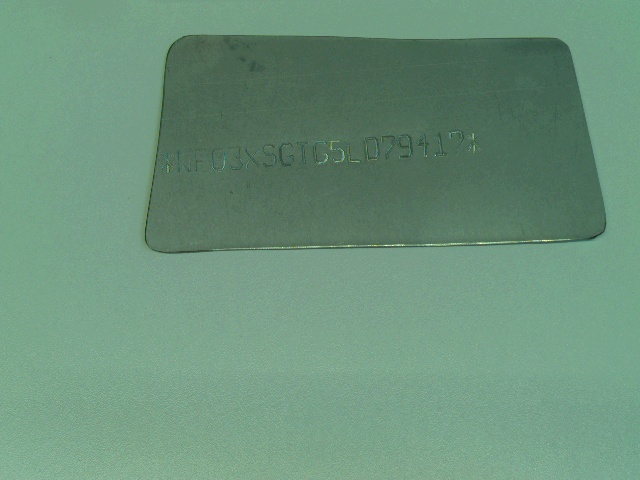0: (210, 146, 228, 173)
1: (433, 130, 448, 159)
3: (228, 144, 244, 171)
4: (417, 132, 431, 156)
5: (329, 138, 346, 166)
7: (448, 129, 464, 160), (381, 133, 397, 160)
9: (397, 133, 414, 159)
d: (363, 136, 381, 163)
f: (194, 147, 208, 174)
g: (310, 139, 330, 165), (278, 141, 297, 167)
l: (343, 139, 362, 164)
s: (261, 143, 278, 167)
t: (297, 140, 310, 167)
w: (174, 149, 195, 173)
x: (243, 144, 261, 169)
